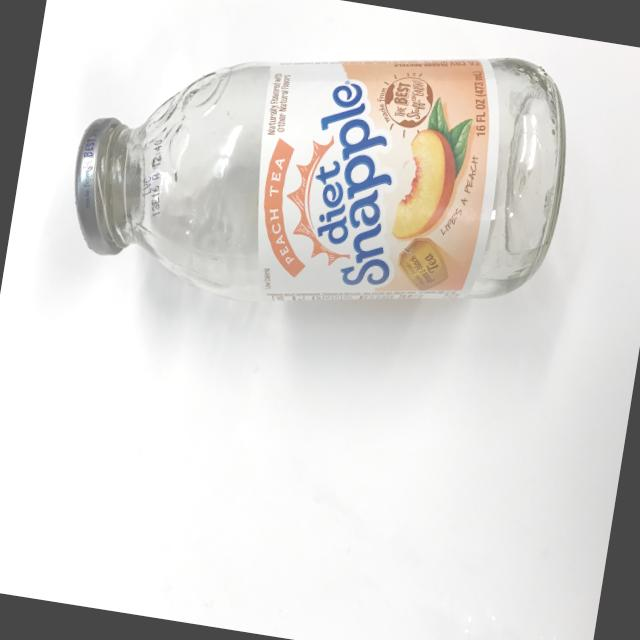Glass: (40, 0, 600, 348)
